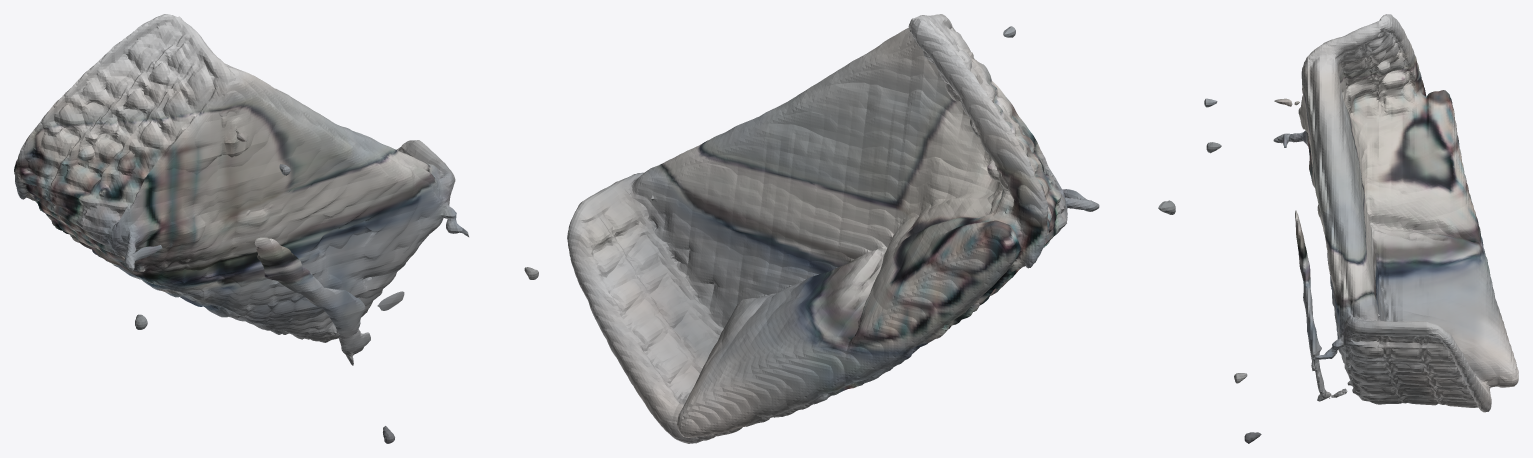
Rendered from Diivan ISOLA.glb.
The picture shows the model from 3 angles, left to right: view 1: azimuth 30°, elevation 25°; view 2: azimuth 150°, elevation 25°; view 3: azimuth 270°, elevation 25°; orthographic projection. The views are drawn at different scales.
Parts seen in each view (by area): view 1: world; view 2: world; view 3: world.
Boxes of the visible parts, x1=… form: world: x1=14, y1=14, x2=538, y2=443; world: x1=567, y1=14, x2=1175, y2=443; world: x1=1204, y1=14, x2=1518, y2=443.
Size of the model in its own units: 0.9932 by 0.923 by 0.7235.
